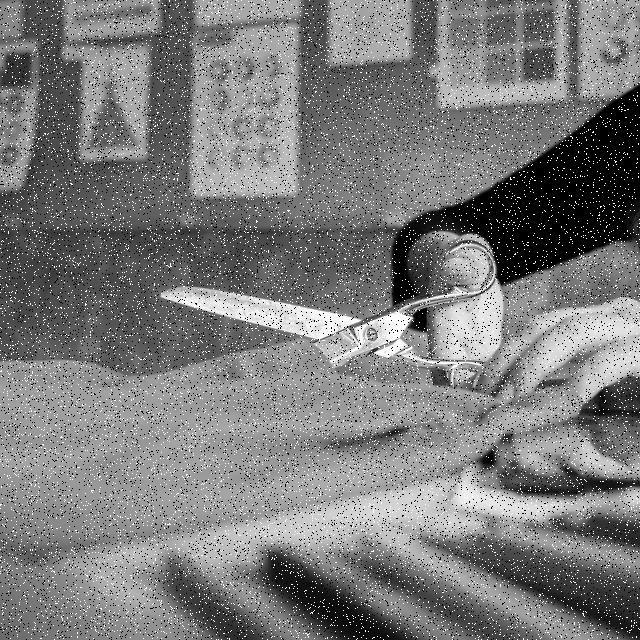scissors: (156, 228, 508, 427)
